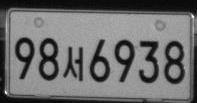3: (138, 40, 159, 83)
6: (88, 39, 111, 82)
8: (163, 40, 186, 84), (38, 37, 59, 80)
9: (113, 38, 135, 83), (14, 36, 35, 79)
서: (63, 46, 83, 81)
